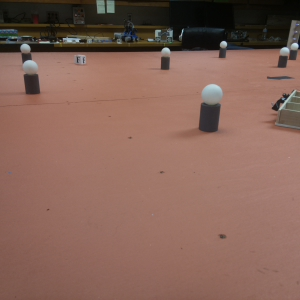obstacle: (198, 80, 223, 135), (22, 59, 43, 99), (160, 46, 173, 70), (277, 44, 289, 69), (20, 44, 34, 63), (289, 42, 300, 60), (218, 39, 227, 56)
side: (272, 86, 295, 125)
